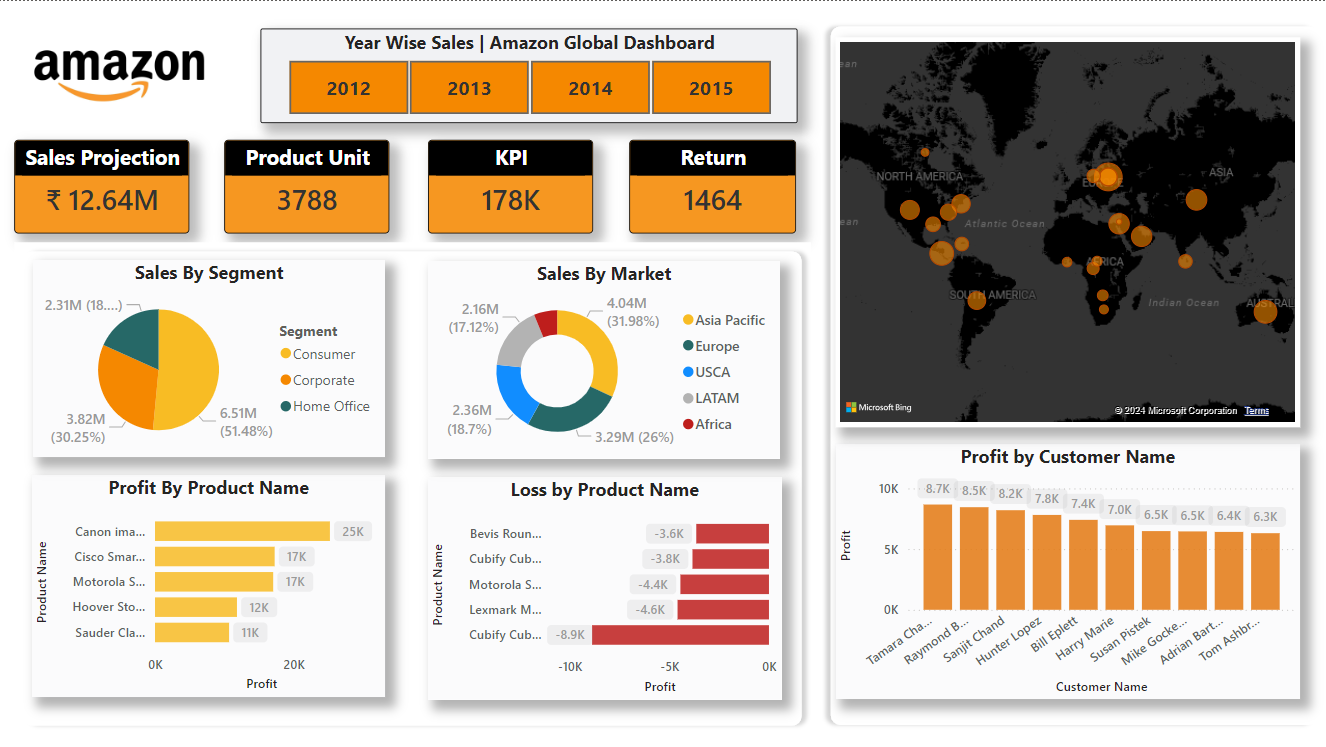

Layout of this report page (visuals, bound fields, positions):
{"tool":"powerbi","page":{"name":"Page 1","canvas":[1280,720],"ordinal":0},"visuals":[{"type":"slicer","title":"Year Wise Sales | Amazon Global Dashboard","fields":{"Values":["Orders.Year"]},"box":[252.5,26.2,517.5,91.2],"z":0},{"type":"card","title":"Sales Projection","fields":{"Values":["Orders.Sales"]},"box":[15.5,133.8,169,90.1],"z":1000},{"type":"card","title":"Product Unit","fields":{"Values":["Orders.Product Name"]},"box":[218.3,133.8,159.2,90.1],"z":2000},{"type":"card","title":"KPI","fields":{"Values":["Orders.Quantity"]},"box":[414.1,133.8,159.2,90.1],"z":3000},{"type":"card","title":"Return","fields":{"Values":["Orders.Ship Date"]},"box":[608.5,133.8,160.6,90.1],"z":4000},{"type":"shape","box":[15.5,232.4,767.6,474.6],"z":5000},{"type":"shape","box":[793.6,15.9,486.7,690.9],"z":6000},{"type":"pieChart","title":"Sales By Segment","fields":{"Category":["Orders.Segment"],"Y":["Orders.Sales"]},"box":[33.8,249.3,339.4,190.1],"z":7000},{"type":"donutChart","title":"Sales By Market","fields":{"Y":["Orders.Sales"],"Category":["Orders.Market"]},"box":[414.1,250.7,339.4,190.1],"z":8000},{"type":"columnChart","title":"Profit by Customer Name","fields":{"Category":["Orders.Customer Name"],"Y":["Orders.Profit"]},"box":[807,426.8,447.9,246.5],"z":9000},{"type":"clusteredBarChart","title":"Profit By Product Name","fields":{"Y":["Orders.Profit"],"Category":["Orders.Product Name"]},"box":[32.4,456.3,340.8,214.1],"z":10000},{"type":"clusteredBarChart","title":"Loss by Product Name","fields":{"Y":["Orders.Profit"],"Category":["Orders.Product Name"]},"box":[414.1,459.2,340.8,214.1],"z":11000},{"type":"map","fields":{"Category":["Orders.Region"],"Size":["Orders.Sales"]},"box":[807,35.2,447.9,376.1],"z":12000},{"type":"image","box":[15.5,26.8,202.8,91.5],"z":12001}]}

Visuals, with their boxes in screenshot pixels (x1, y1, x2, y2), scaled from the page's 1280x720 canvas onto the 1326x747 screenshot:
"Year Wise Sales | Amazon Global Dashboard" slicer: 262 27 798 122
"Sales Projection" card: 16 139 191 232
"Product Unit" card: 226 139 391 232
"KPI" card: 429 139 594 232
"Return" card: 630 139 797 232
shape: 16 241 811 734
shape: 822 16 1325 733
"Sales By Segment" pieChart: 35 259 387 456
"Sales By Market" donutChart: 429 260 781 457
"Profit by Customer Name" columnChart: 836 443 1300 699
"Profit By Product Name" clusteredBarChart: 34 473 387 696
"Loss by Product Name" clusteredBarChart: 429 476 782 699
map - Orders.Region x Orders.Sales: 836 37 1300 427
image: 16 28 226 123
